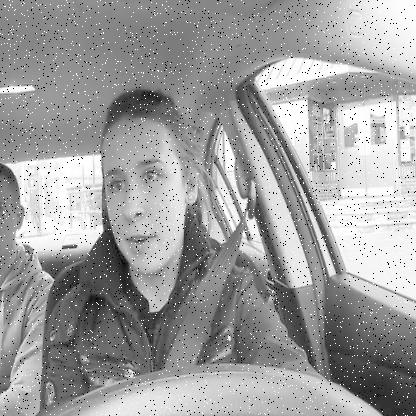seatbelt: (98, 76, 266, 370)
